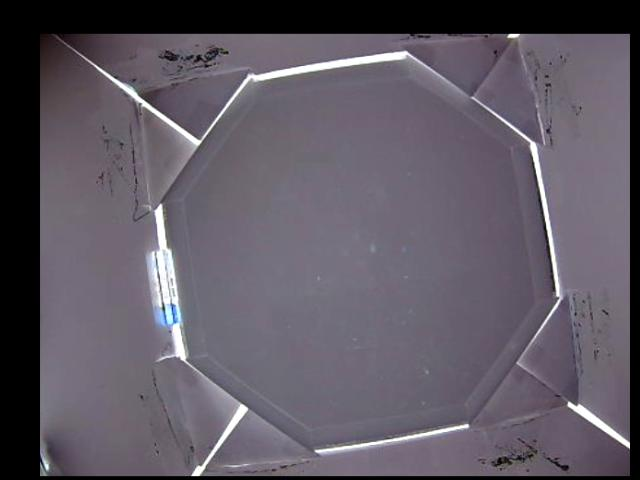Battery: (154, 248, 181, 326)
